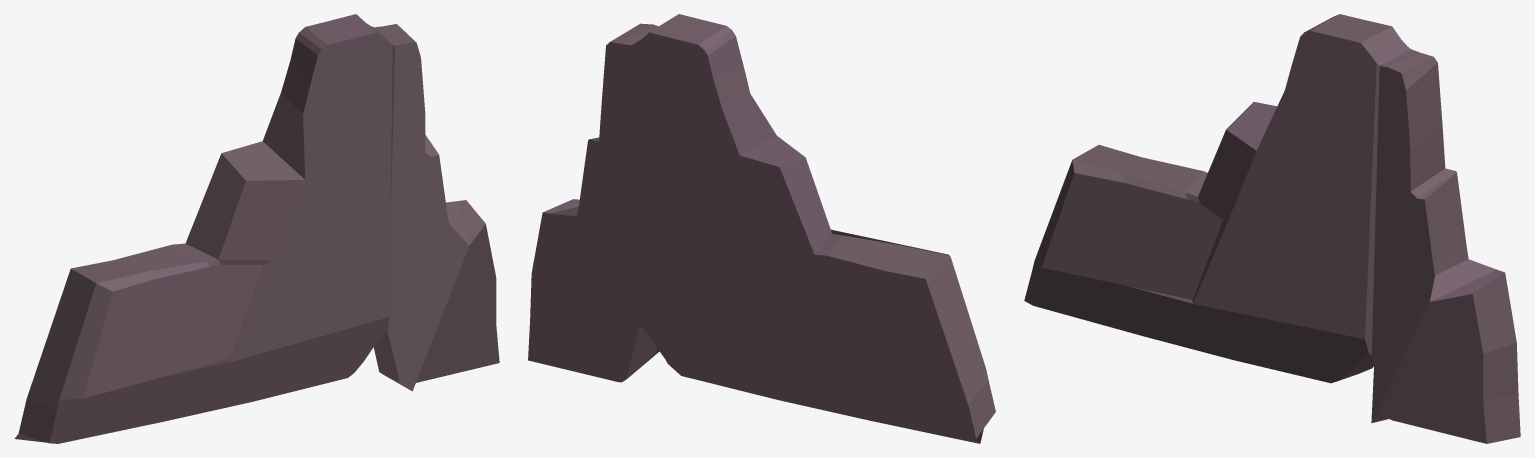
Rendered from SM_Rock_001.fbx.
The picture shows the model from 3 angles, left to right: view 1: azimuth 30°, elevation 25°; view 2: azimuth 150°, elevation 25°; view 3: azimuth 330°, elevation 25°; orthographic projection. The views are drawn at different scales.
Visible parts, largest first — view 1: SM_Rock.001; view 2: SM_Rock.001; view 3: SM_Rock.001.
Part boxes in pixels (box(x1,y1,x2,y2)): SM_Rock.001: box(14, 14, 499, 443); SM_Rock.001: box(528, 14, 995, 443); SM_Rock.001: box(1024, 14, 1520, 443).
Size of the model in its own units: 389 by 2587 by 1962.
